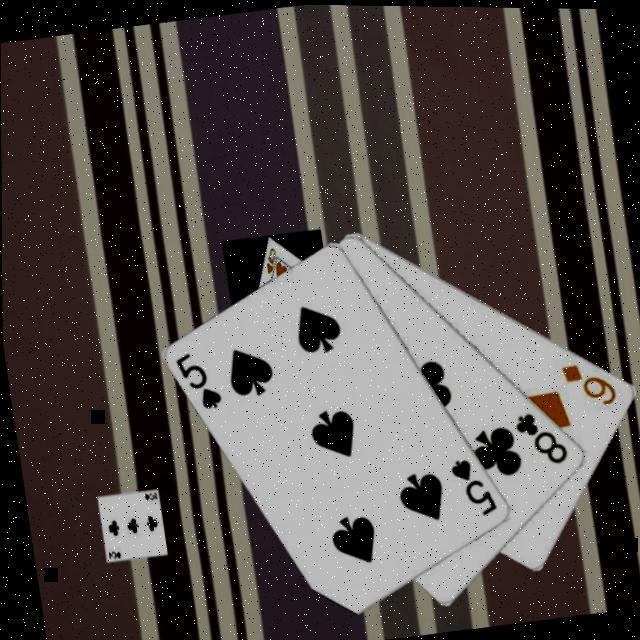5S: (446, 450, 500, 522), (171, 347, 224, 418)
6D: (556, 354, 620, 413)
8C: (509, 404, 572, 472)
